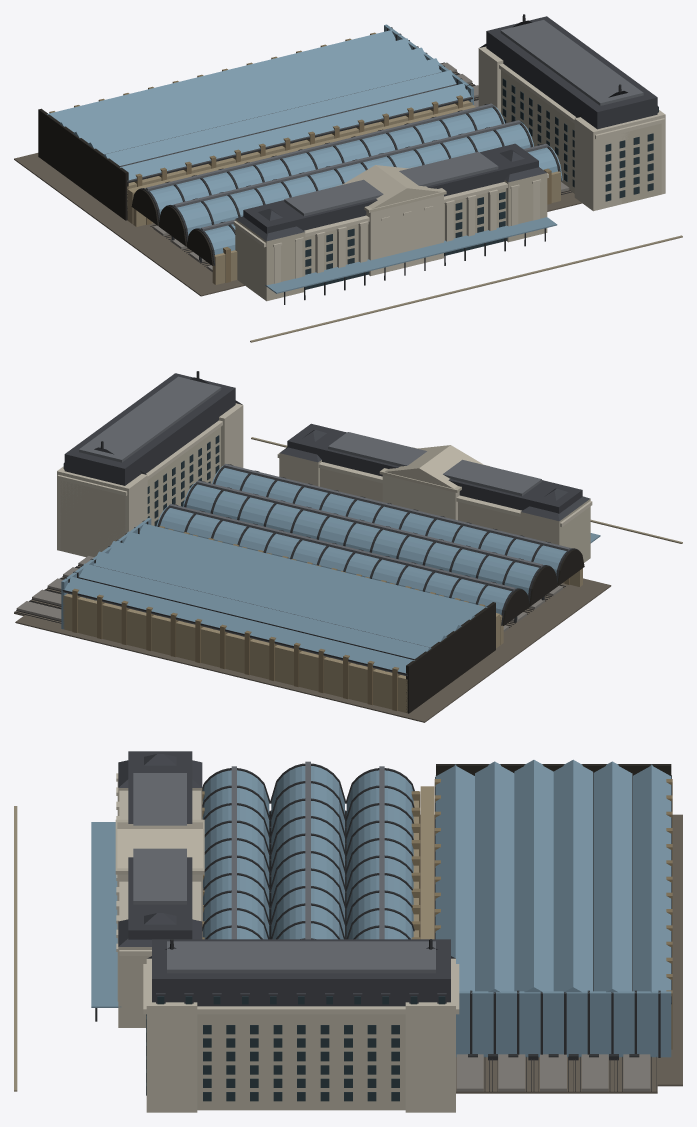
File: victoria_station.glb
3 views of the same model, one above another, from view 1: azimuth 30°, elevation 25°; view 2: azimuth 150°, elevation 25°; view 3: azimuth 270°, elevation 25° (orthographic). The views are drawn at different scales.
Parts seen in each view (by area): view 1: victoria_station; view 2: victoria_station; view 3: victoria_station.
Part boxes in pixels (x1,y1,x2,y2): victoria_station: (14,14,682,342); victoria_station: (14,371,682,722); victoria_station: (14,751,682,1112).
Bounding box in the file's own units: 215 × 49.6 × 199.
